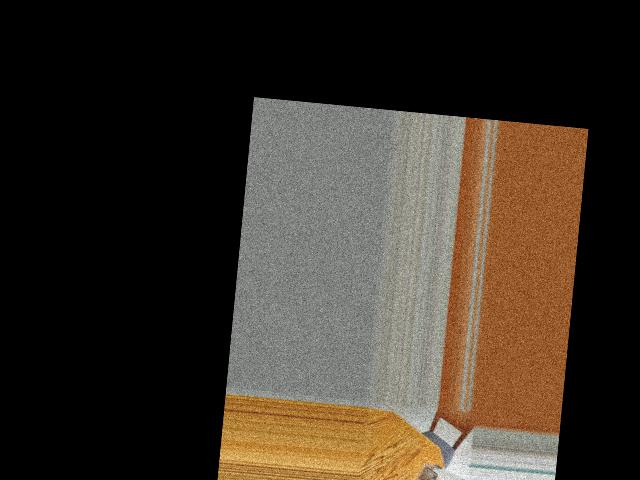cheese: (414, 462, 461, 480)
